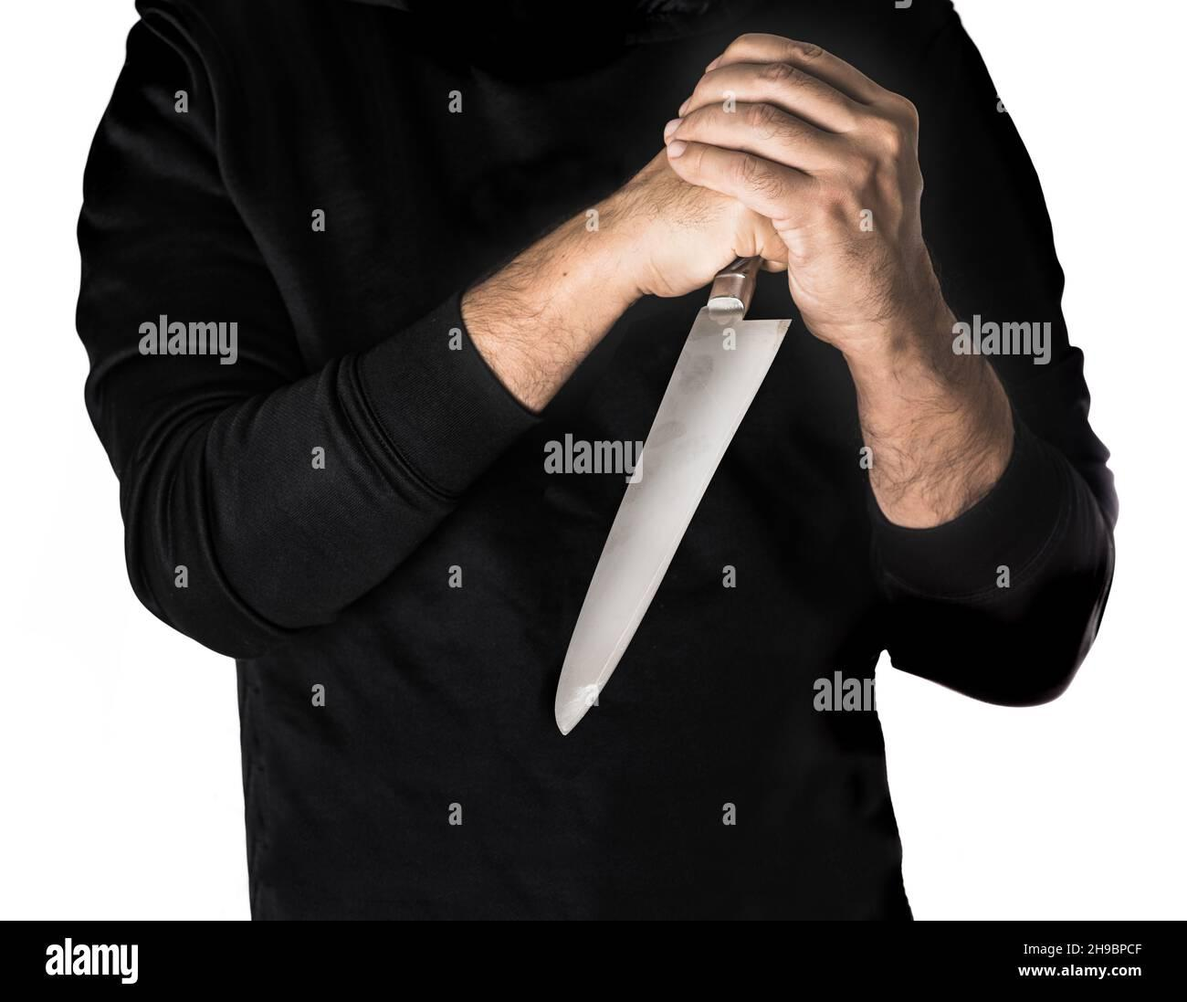Knife: (78, 0, 1118, 923), (560, 284, 792, 733), (665, 30, 909, 312)
